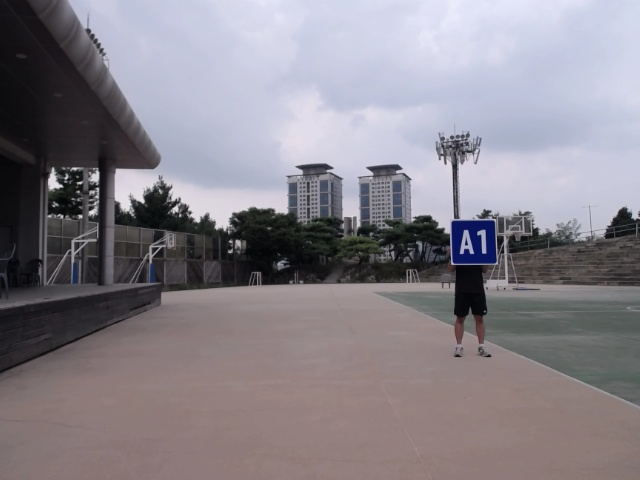delivery_a1: (451, 220, 498, 265)
